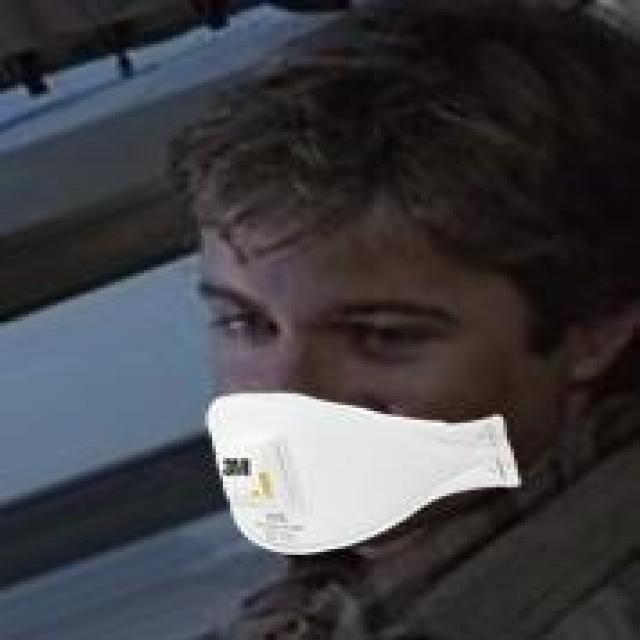mask: (169, 79, 633, 567)
